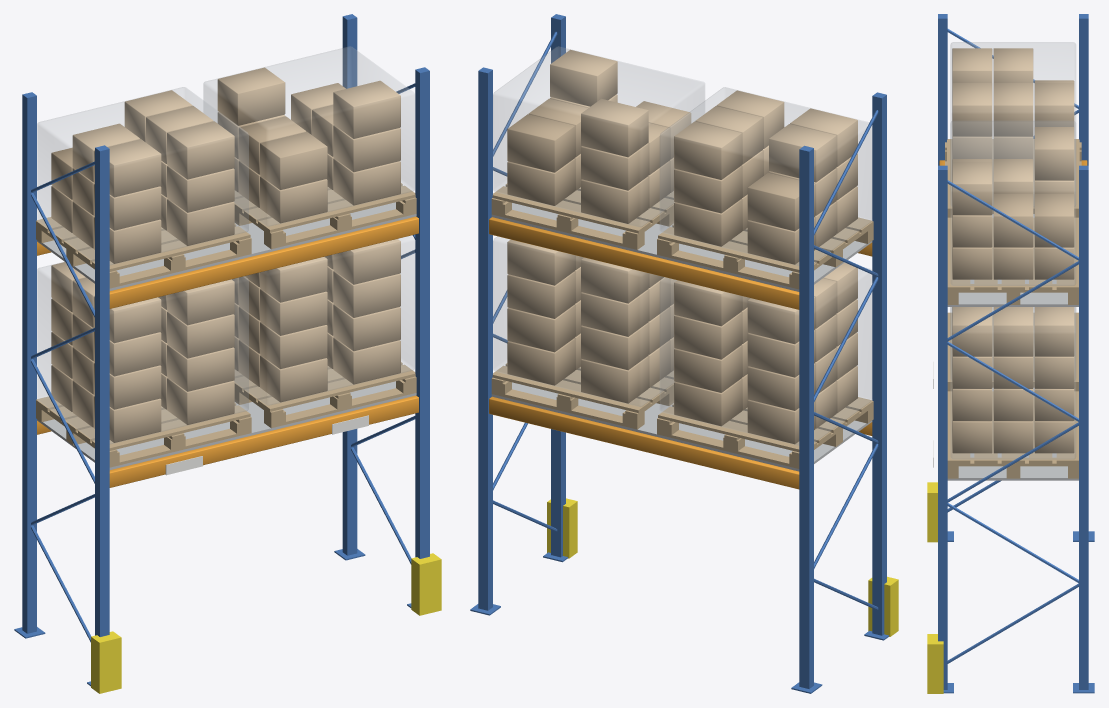
The model's file is rack_bay.glb.
The picture shows the model from 3 angles, left to right: view 1: azimuth 30°, elevation 25°; view 2: azimuth 150°, elevation 25°; view 3: azimuth 270°, elevation 25°; orthographic projection. The views are drawn at different scales.
Visible parts, largest first — view 1: Cube.143, Cube.057, Cube.178, Cube.102, Cube.002, Cube, Cube.005, Cube.103, Cube.010, Cube.012, Cube.105, Cube.176 (+60 smaller); view 2: Cube.143, Cube.057, Cube.178, Cube.102, Cube.002, Cube.007, Cube, Cube.011, Cube.104, Cube.105, Cube.012, Cube.175 (+58 smaller); view 3: Cube.178, Cube.102, Cube.143, Cube.007, Cube.005, Cube.140, Cube.141, Cube.176, Cube.175, Cube.177, Cube.174, Cube.101 (+48 smaller).
Boxes of the visible parts, x1,y1,x2,y2 form: Cube.143: (37, 87, 248, 264); Cube.057: (37, 262, 248, 443); Cube.178: (203, 46, 414, 226); Cube.102: (235, 236, 414, 405); Cube.002: (22, 92, 36, 633); Cube: (95, 145, 109, 636); Cube.005: (415, 67, 429, 558); Cube.103: (109, 216, 418, 308); Cube.010: (109, 395, 418, 487); Cube.012: (37, 381, 416, 469); Cube.105: (37, 202, 416, 290); Cube.176: (217, 67, 285, 125); Cube.143: (660, 87, 871, 265); Cube.057: (660, 263, 871, 445); Cube.178: (493, 46, 704, 226); Cube.102: (493, 236, 673, 406); Cube.002: (799, 145, 813, 688); Cube.007: (478, 67, 492, 610); Cube: (872, 92, 886, 635); Cube.011: (489, 396, 799, 489); Cube.104: (489, 217, 799, 309); Cube.105: (491, 203, 872, 291); Cube.012: (491, 382, 872, 471); Cube.175: (507, 114, 575, 172); Cube.178: (950, 121, 1075, 285); Cube.102: (950, 307, 1075, 459); Cube.143: (950, 42, 1075, 205); Cube.007: (1079, 165, 1088, 689); Cube.005: (938, 165, 947, 689); Cube.140: (952, 83, 992, 136); Cube.141: (993, 83, 1033, 136); Cube.176: (1034, 127, 1074, 180); Cube.175: (1034, 194, 1074, 247); Cube.177: (952, 161, 992, 215); Cube.174: (993, 194, 1033, 247); Cube.101: (1034, 307, 1074, 356).
Size of the model in its own units: 2.8 by 4.2 by 1.22.
